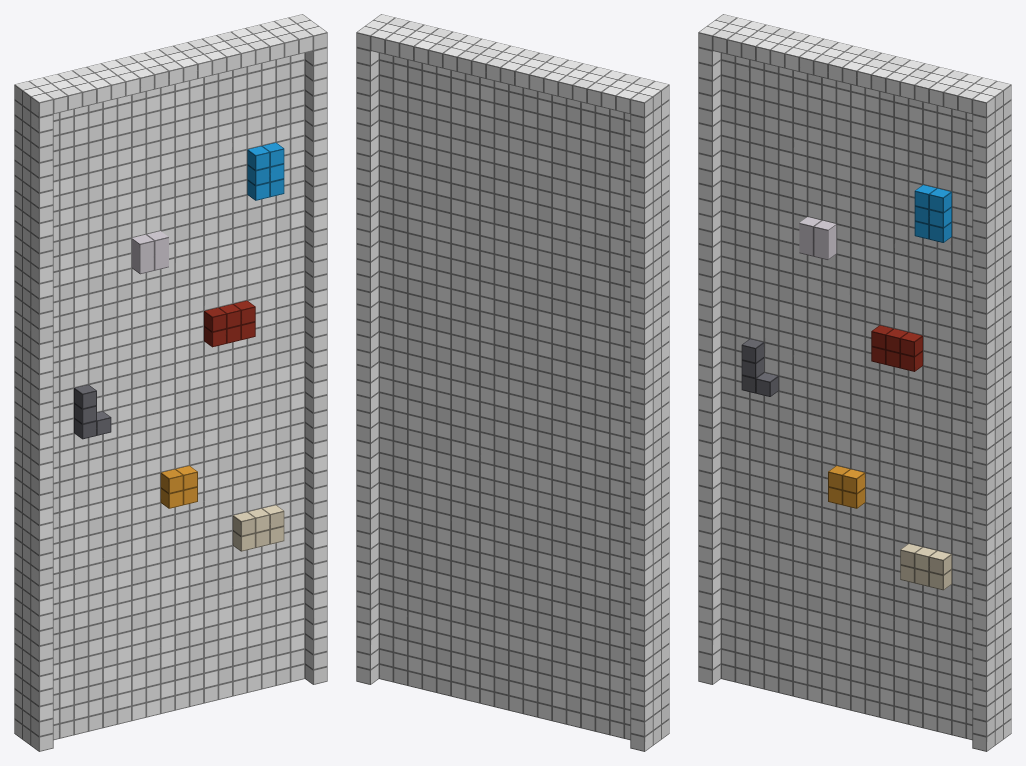
Rendered from sticker_door.glb.
The picture shows the model from 3 angles, left to right: view 1: azimuth 30°, elevation 25°; view 2: azimuth 150°, elevation 25°; view 3: azimuth 330°, elevation 25°; orthographic projection.
Parts seen in each view (by area): view 1: sticker_door; view 2: sticker_door; view 3: sticker_door.
Part boxes in pixels (bbox=[...]): sticker_door: bbox=[14, 14, 327, 751]; sticker_door: bbox=[356, 14, 669, 751]; sticker_door: bbox=[698, 14, 1011, 751].
Size of the model in its own units: 1 by 2.15 by 0.15.
8 materials, 8 textured.
